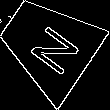N_NW: (17, 14, 79, 75)
